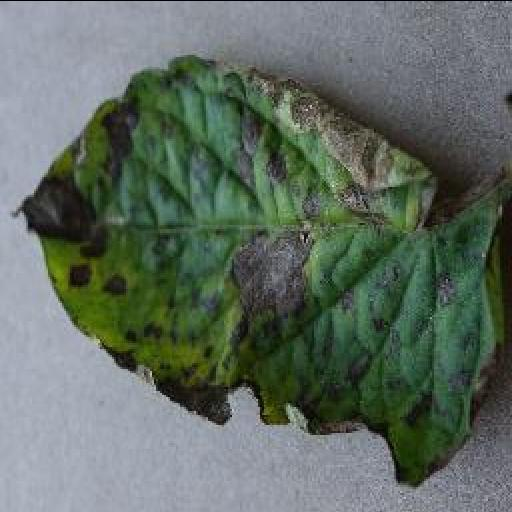disease_tomato: (14, 52, 512, 488)
